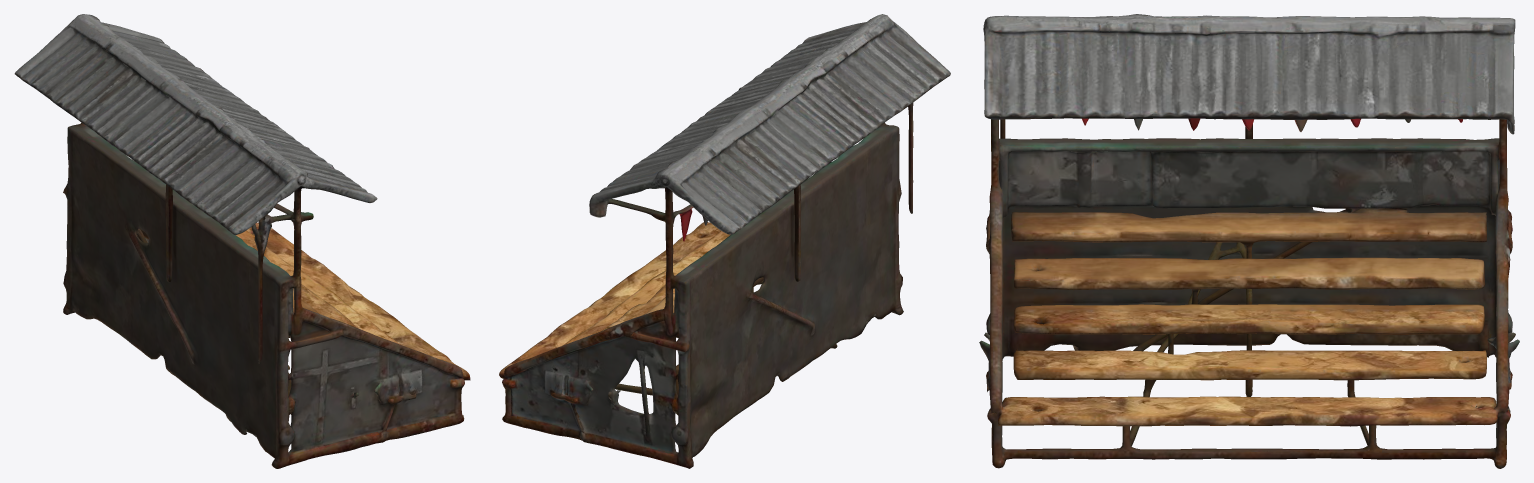
The model's file is race_grandstand.glb.
The picture shows the model from 3 angles, left to right: view 1: azimuth 30°, elevation 25°; view 2: azimuth 150°, elevation 25°; view 3: azimuth 270°, elevation 25°; orthographic projection. The views are drawn at different scales.
Parts seen in each view (by area): view 1: tripo_node_28761db7-f424-45bf-b05a-392aac51c98a; view 2: tripo_node_28761db7-f424-45bf-b05a-392aac51c98a; view 3: tripo_node_28761db7-f424-45bf-b05a-392aac51c98a.
Part boxes in pixels (x1,y1,x2,y2): tripo_node_28761db7-f424-45bf-b05a-392aac51c98a: (14, 14, 470, 468); tripo_node_28761db7-f424-45bf-b05a-392aac51c98a: (499, 14, 950, 468); tripo_node_28761db7-f424-45bf-b05a-392aac51c98a: (979, 14, 1519, 468).
Size of the model in its own units: 0.6142 by 0.7076 by 0.9782.
Materials: 1 (1 with a texture image).
